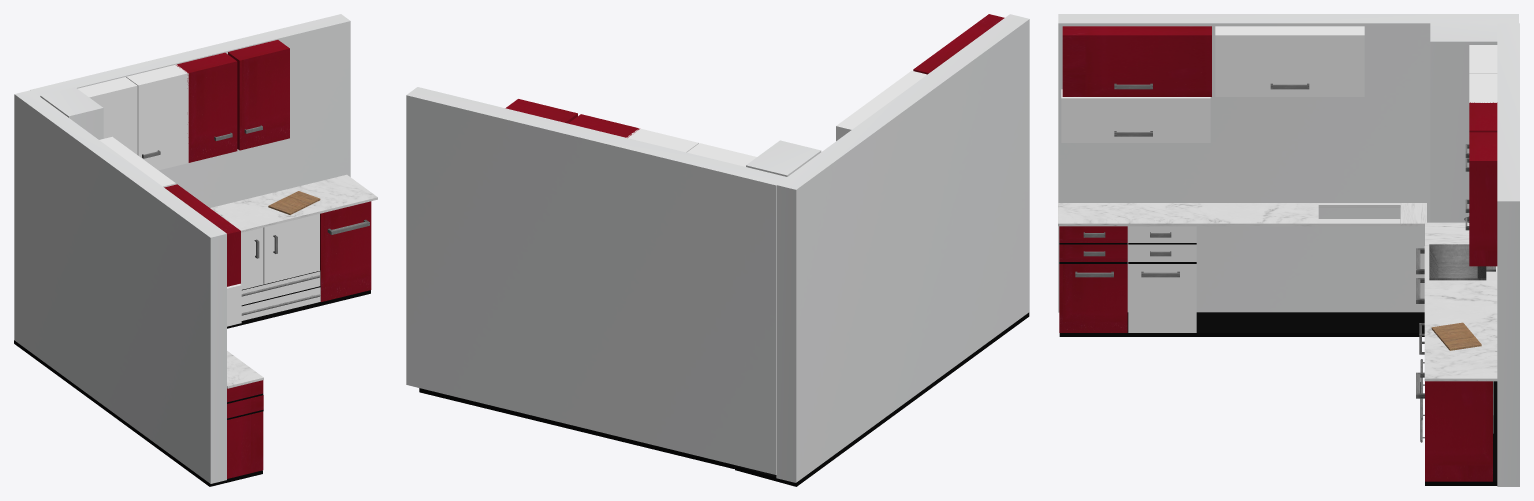
Rendered from uploads_files_2085889_Kitchen.fbx.
3 views of the same model, side by side, from view 1: azimuth 30°, elevation 25°; view 2: azimuth 150°, elevation 25°; view 3: azimuth 270°, elevation 25° (orthographic). The views are drawn at different scales.
Visible parts, largest first — view 1: polySurface207, polySurface221, polySurface227, polySurface246, polySurface226, polySurface242, polySurface204, polySurface233, polySurface223, polySurface213, polySurface248, polySurface252 (+11 smaller); view 2: polySurface221, polySurface207, polySurface199, polySurface248, polySurface198, polySurface196, polySurface252, polySurface227, polySurface226, polySurface246, polySurface223; view 3: polySurface207, polySurface221, polySurface252, polySurface196, polySurface248, polySurface200, polySurface204, polySurface242, polySurface247, polySurface198, polySurface194, polySurface213 (+13 smaller).
Boxes of the visible parts, box(x1,y1,x2,y2) form: polySurface207: box(14, 90, 226, 483); polySurface221: box(30, 14, 350, 207); polySurface227: box(228, 40, 289, 150); polySurface246: box(176, 52, 237, 162); polySurface226: box(126, 64, 188, 170); polySurface242: box(320, 201, 371, 301); polySurface204: box(210, 174, 377, 232); polySurface233: box(263, 214, 319, 284); polySurface223: box(77, 77, 137, 154); polySurface213: box(227, 411, 263, 478); polySurface248: box(40, 87, 103, 139); polySurface252: box(164, 184, 240, 286); polySurface221: box(406, 87, 786, 474); polySurface207: box(776, 14, 1029, 482); polySurface199: box(419, 388, 736, 468); polySurface248: box(746, 140, 821, 176); polySurface198: box(735, 312, 1029, 486); polySurface196: box(836, 70, 926, 140); polySurface252: box(913, 14, 1004, 74); polySurface227: box(505, 99, 577, 123); polySurface226: box(626, 128, 698, 152); polySurface246: box(568, 114, 639, 137); polySurface223: box(687, 143, 756, 166); polySurface207: box(1058, 14, 1518, 312); polySurface221: box(1497, 23, 1519, 486); polySurface252: box(1062, 26, 1211, 96); polySurface196: box(1215, 26, 1364, 96); polySurface248: box(1430, 22, 1497, 222); polySurface200: box(1058, 203, 1400, 226); polySurface204: box(1424, 246, 1497, 381); polySurface242: box(1425, 381, 1492, 481); polySurface247: box(1061, 89, 1210, 142); polySurface198: box(1059, 312, 1424, 336); polySurface194: box(1128, 264, 1196, 332); polySurface213: box(1059, 264, 1127, 332).
Bounding box in the file's own units: 9.45 × 6.92 × 9.83.
8 materials, 5 textured.
